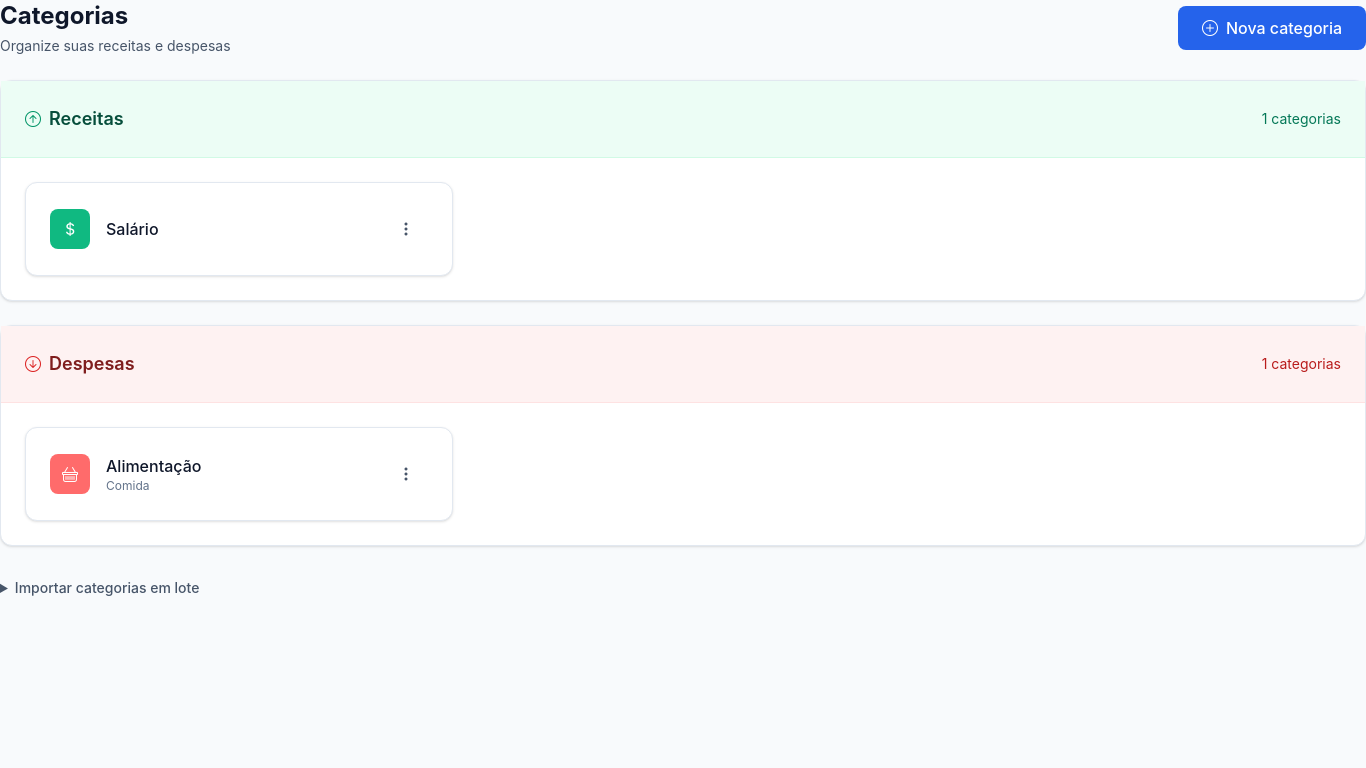
Test case: Categories › exclusão recusada mantém o diálogo com mensagem fixa
Expected: the text "Salário" is shown, [106,217,158,241]
Step 1. Click the button named "Mais ações para Salário" → [406, 229], box [384,207,428,251]
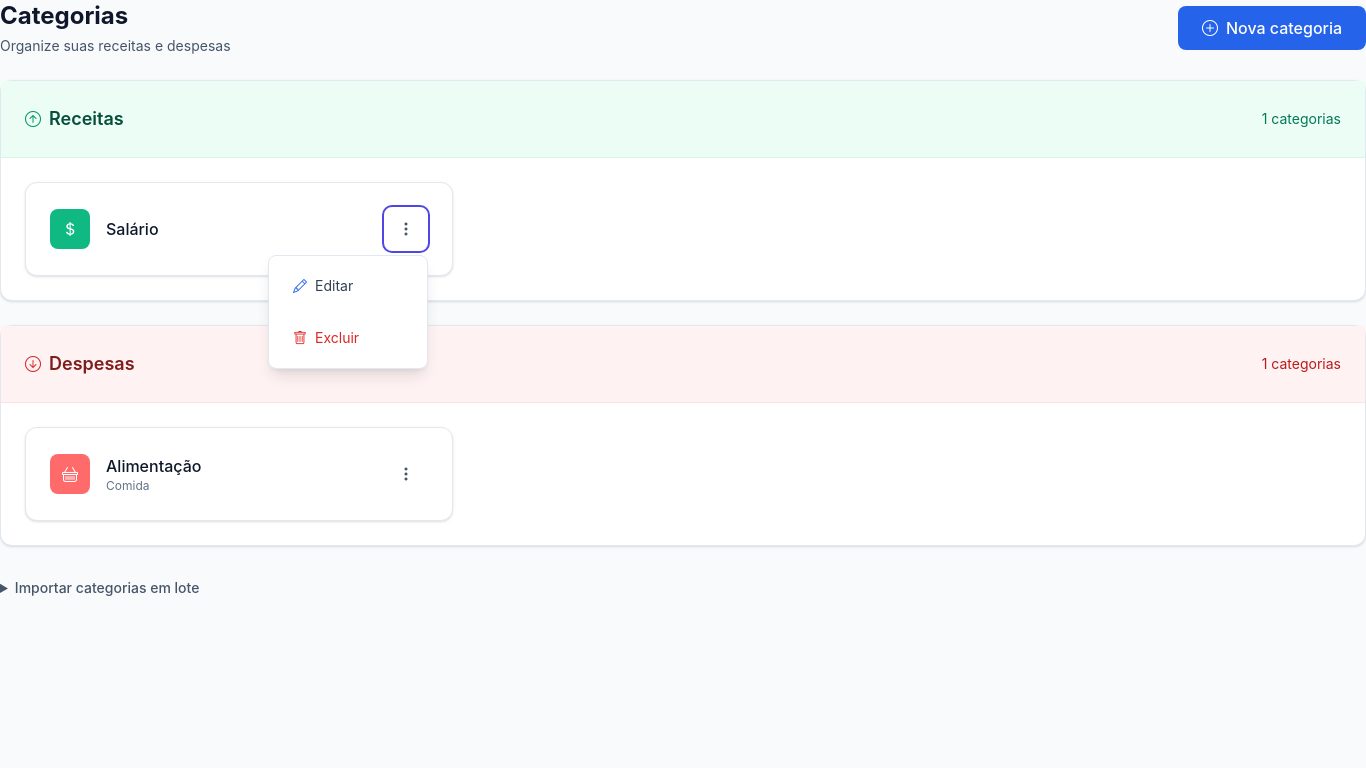
Step 2. Click the menu item "Excluir" → [348, 338], box [269,312,427,364]
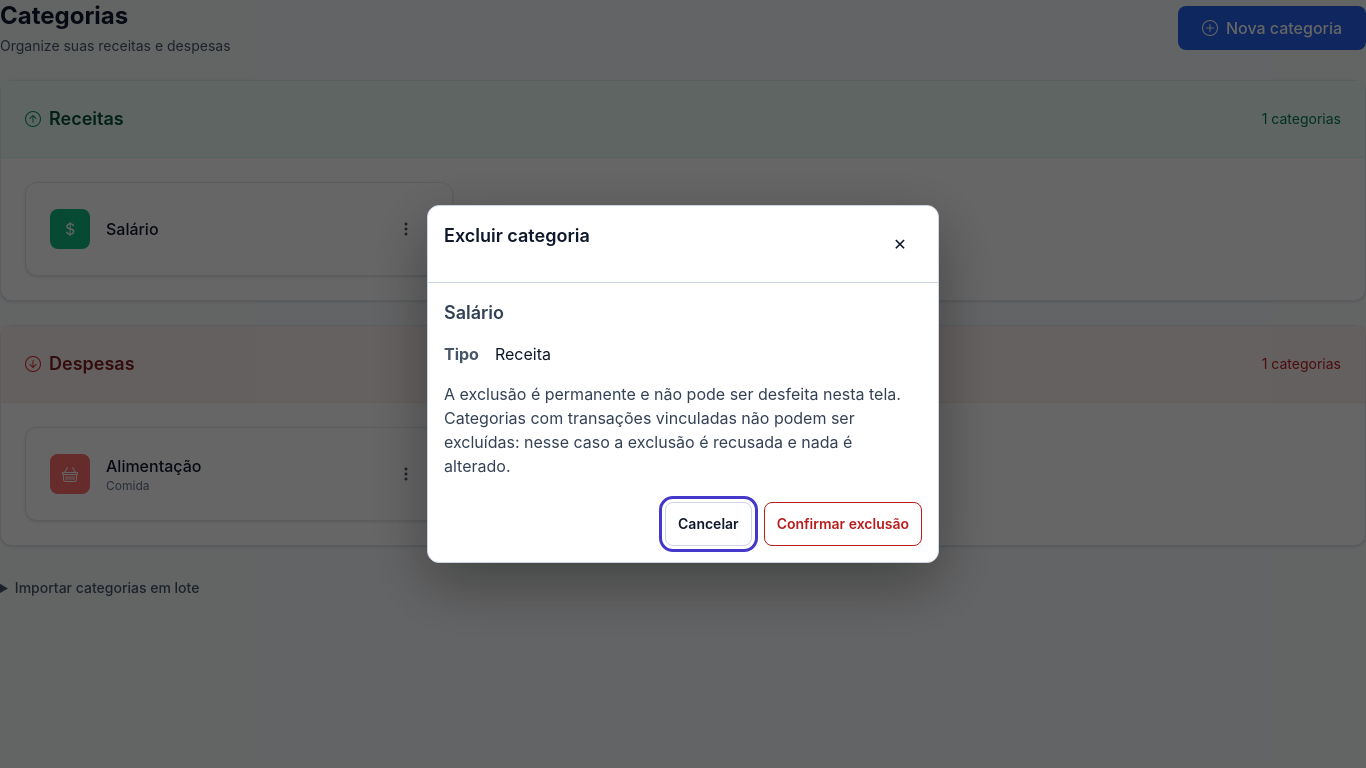
Step 3. Click the button "Confirmar exclusão" → [843, 524], box [764,502,922,546]
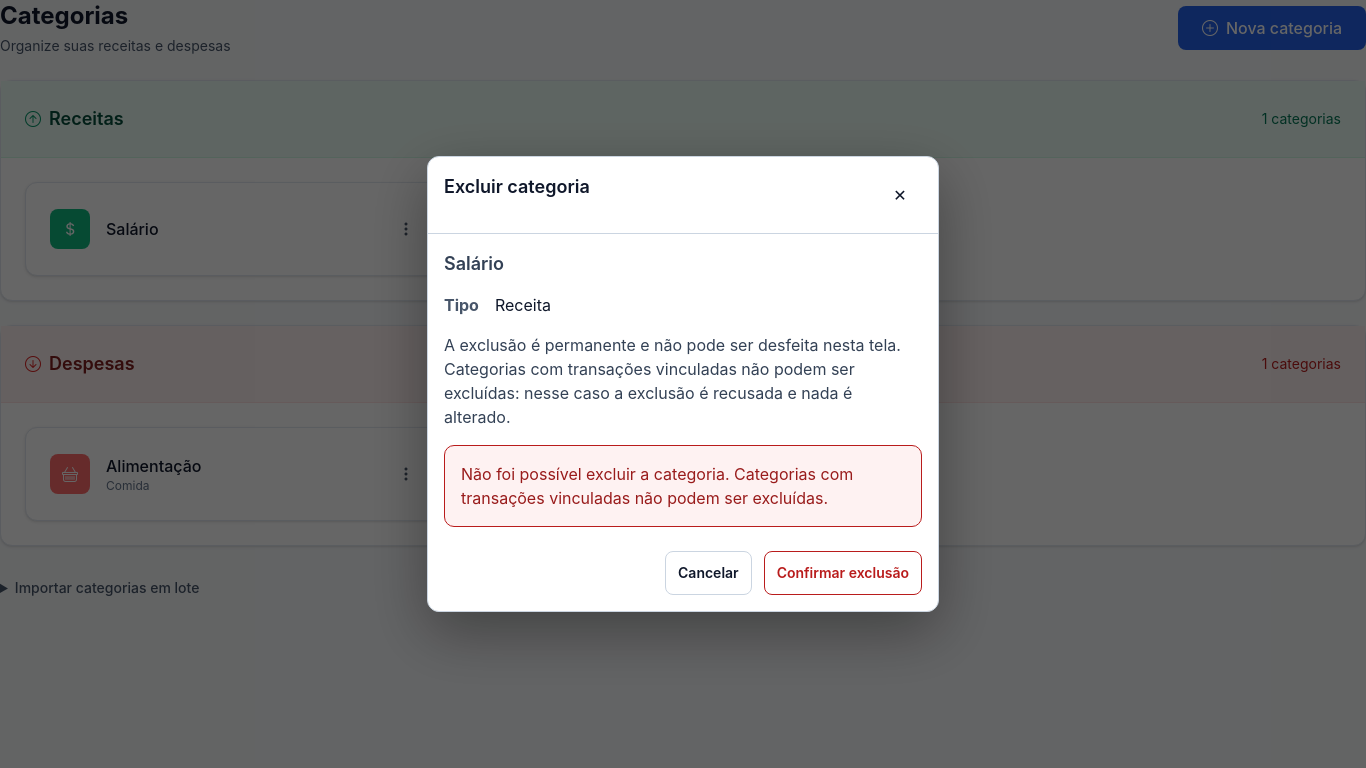
Now the message shows "Não foi possível excluir a categoria.", box [461,464,853,508]
